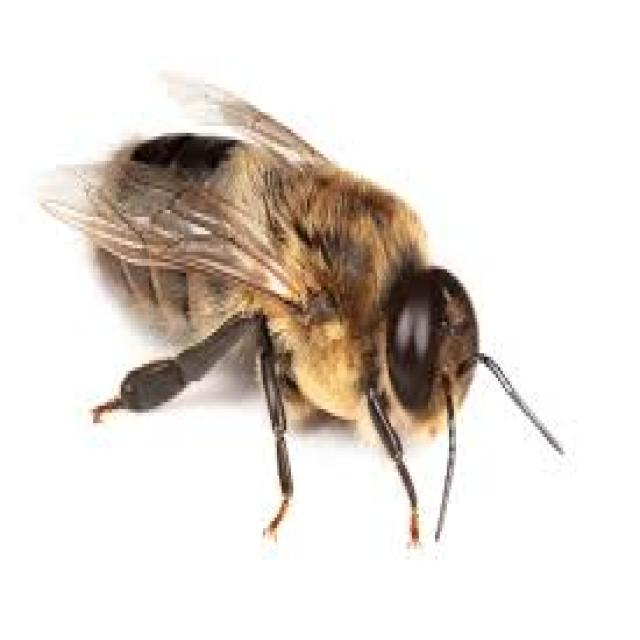Bees: (33, 57, 567, 559)
